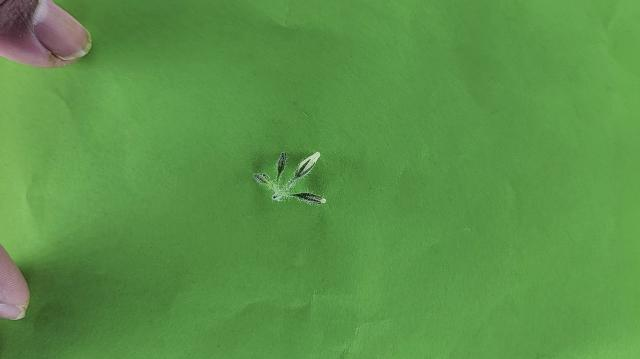Flower Bud: (290, 151, 320, 183), (288, 192, 327, 205), (276, 151, 287, 180), (252, 173, 267, 183)
